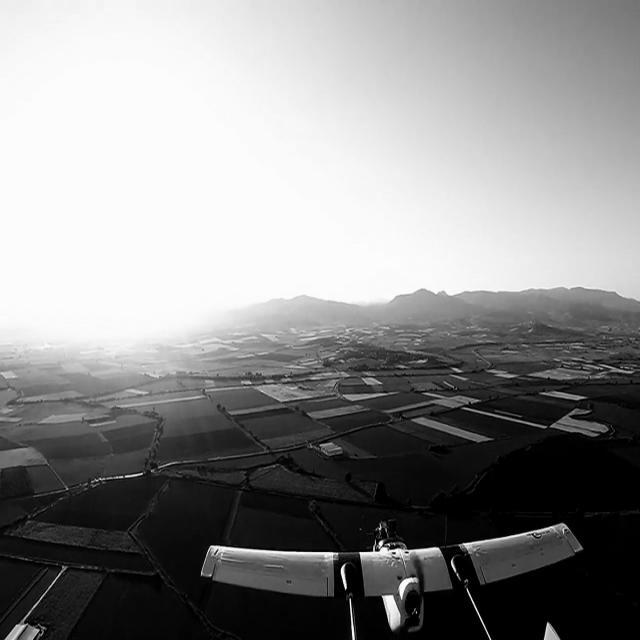iha: (190, 551, 590, 608)
